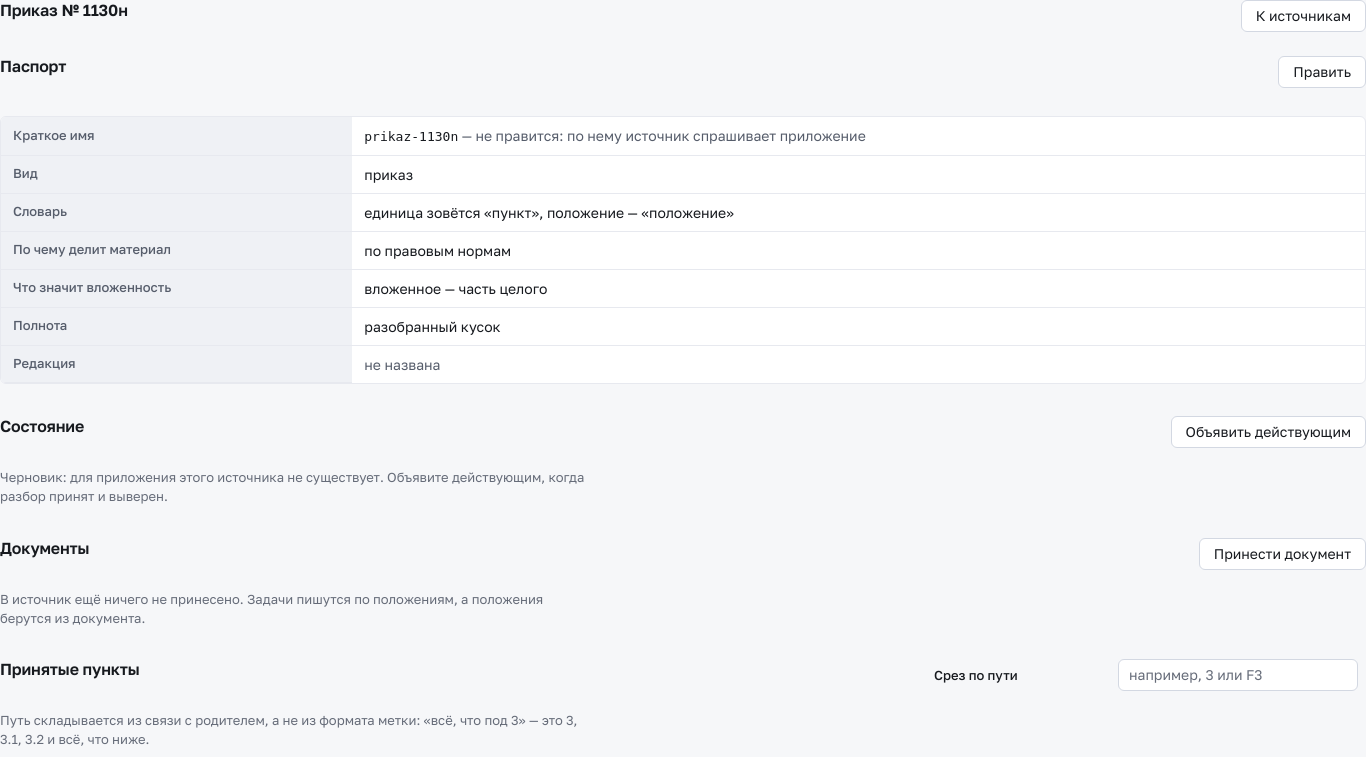
Test: карточка источника › краткое имя правке не отдаётся, и сказано почему до попытки
This screenshot has width=1366, height=757.
Expected: the text "— не правится: по нему источник спрашивает приложение" is shown, [458,127,866,144]
Click the button "Править" at (1322, 72), box [1278,56,1365,88]
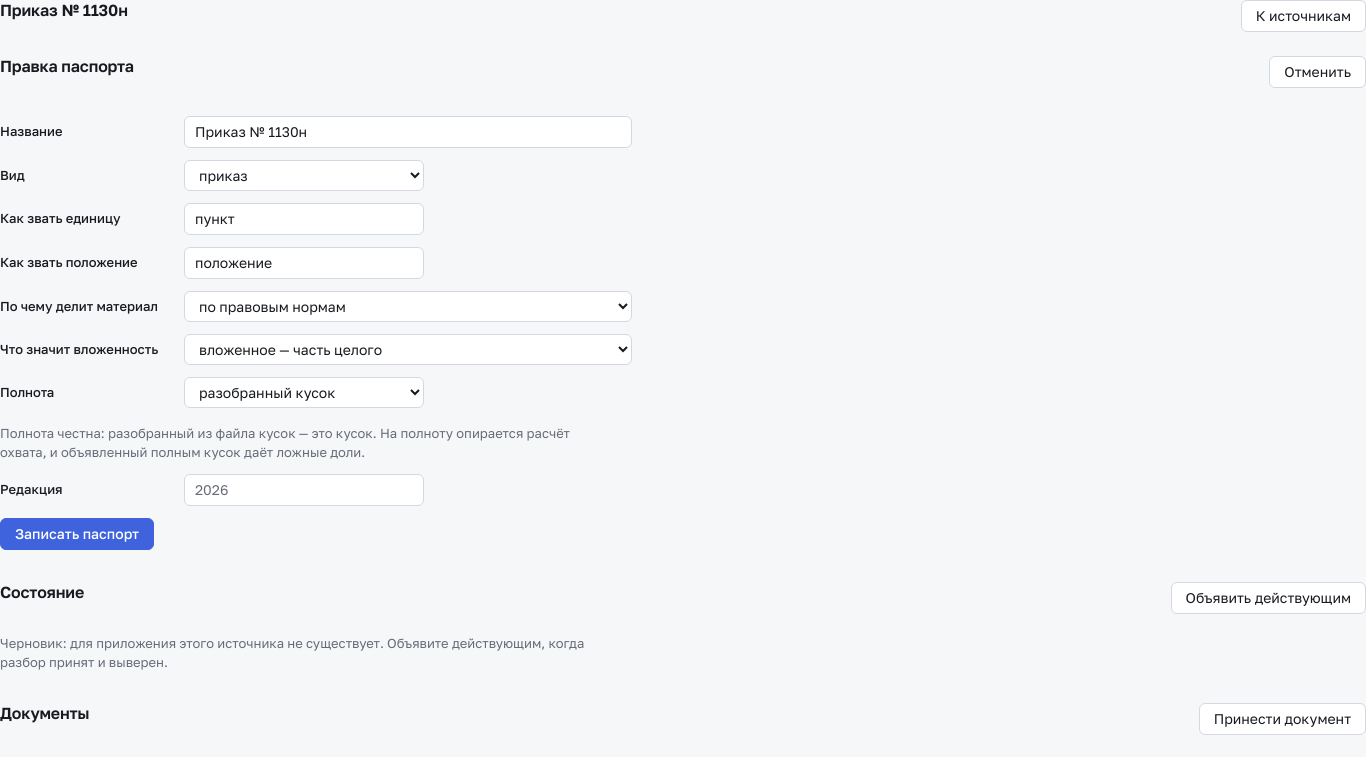
Result: the column heading "Краткое имя" is gone
